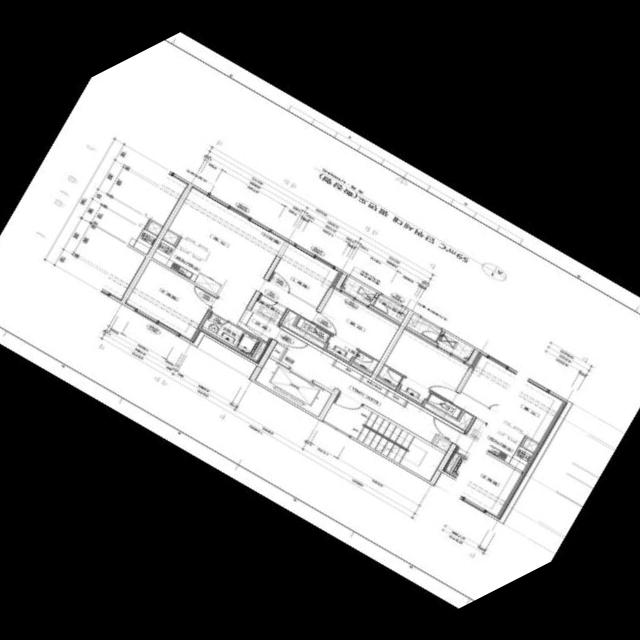background: (0, 32, 640, 608)
space_balconi: (340, 275, 376, 303)
space_bedroom: (124, 259, 214, 341), (313, 286, 400, 360), (268, 241, 342, 307)
space_elevator: (255, 356, 331, 415)
space_elevator_hall: (277, 329, 458, 442)
space_front: (236, 307, 278, 343)
space_kitchen: (151, 236, 234, 295)
space_living_room: (167, 185, 315, 324)
space_multipurpose_space: (250, 293, 285, 325)
space_other: (280, 310, 324, 348), (334, 360, 361, 379), (361, 376, 386, 393), (350, 362, 371, 376), (253, 341, 268, 360), (386, 390, 405, 404), (269, 342, 284, 359), (162, 229, 178, 244), (435, 438, 450, 451)
space_outdoor_room: (372, 293, 408, 322)
space_staircase: (322, 391, 444, 480)
space_toilet: (201, 311, 259, 356), (295, 316, 329, 342), (325, 334, 356, 361), (352, 349, 378, 372)
